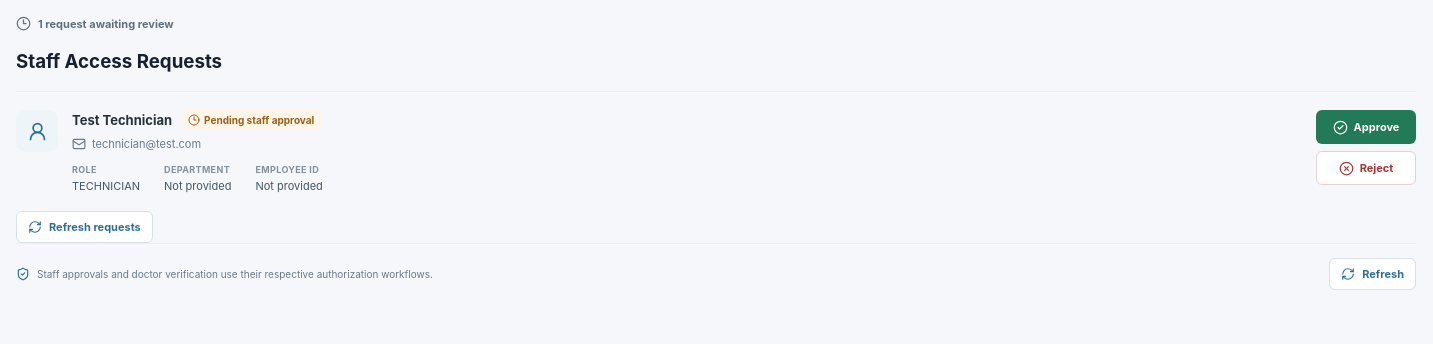
AdminPendingApprovals › approves a user and removes them from the list
Check: the heading "Test Technician" is shown, box [72,112,172,128]
Click the button "Approve" at (1366, 127), box [1316,110,1416,144]
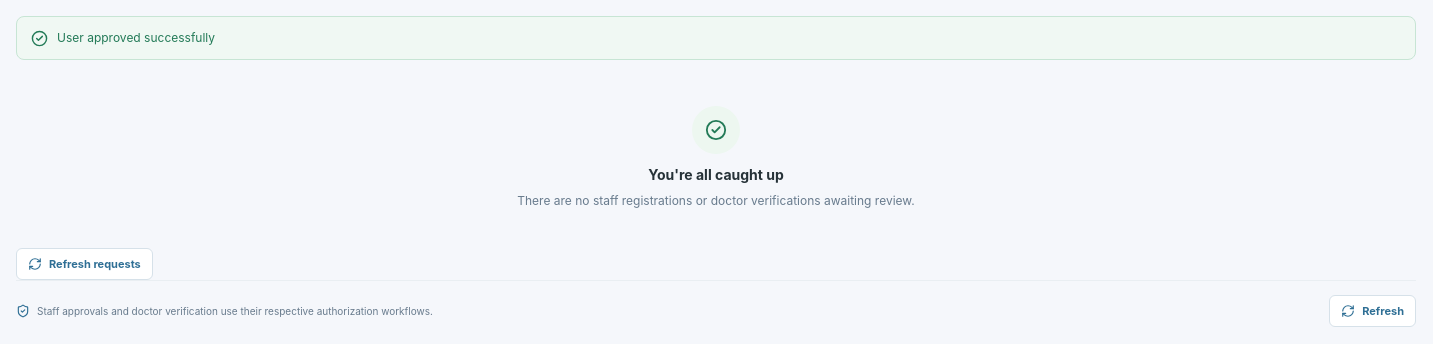
Check: the heading "Test Technician" is gone
Check: the text "User approved successfully" is shown, box [57,30,215,45]
